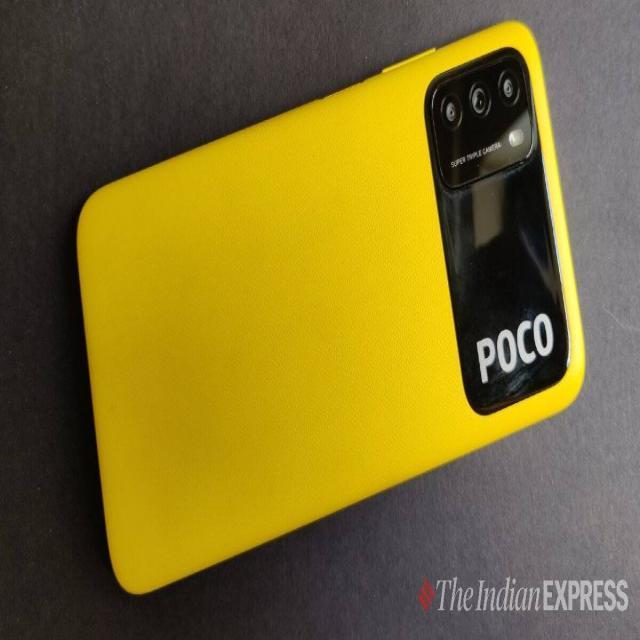Phone: (74, 14, 590, 612)
